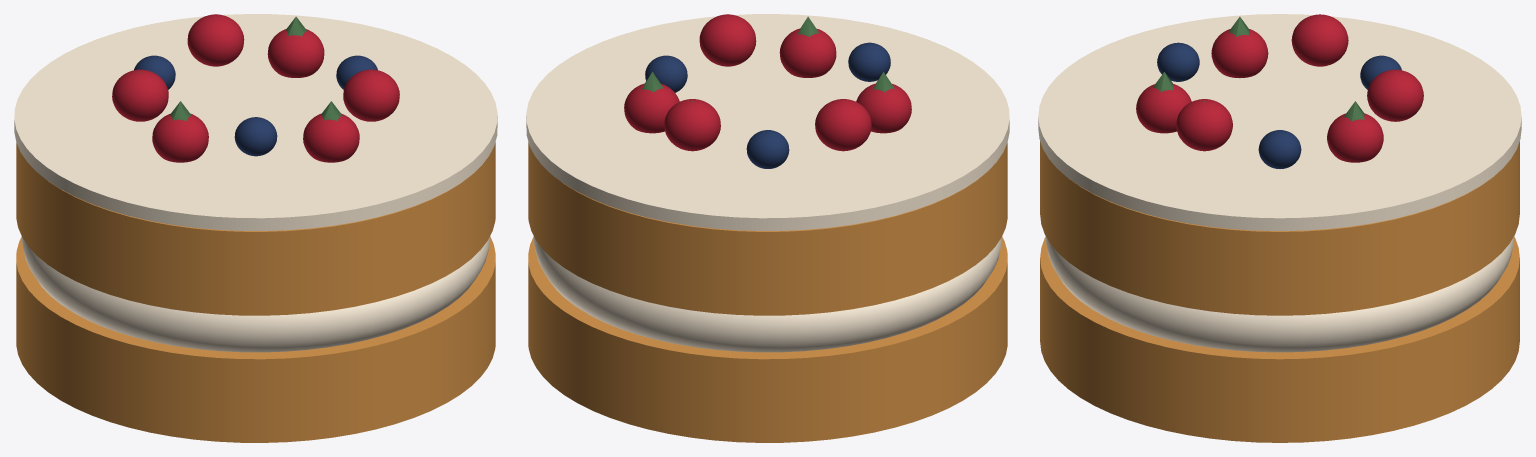
Rendered from english-cake.glb.
The picture shows the model from 3 angles, left to right: view 1: azimuth 30°, elevation 25°; view 2: azimuth 150°, elevation 25°; view 3: azimuth 270°, elevation 25°; orthographic projection.
Parts seen in each view (by area): view 1: LaBaguette_english-cake; view 2: LaBaguette_english-cake; view 3: LaBaguette_english-cake.
Boxes of the visible parts, left/top/right/bottom form: LaBaguette_english-cake: left=14, top=14, right=497, bottom=442; LaBaguette_english-cake: left=526, top=14, right=1009, bottom=442; LaBaguette_english-cake: left=1038, top=14, right=1521, bottom=442.
Bounding box in the file's own units: 2.72 × 1.73 × 2.72.
